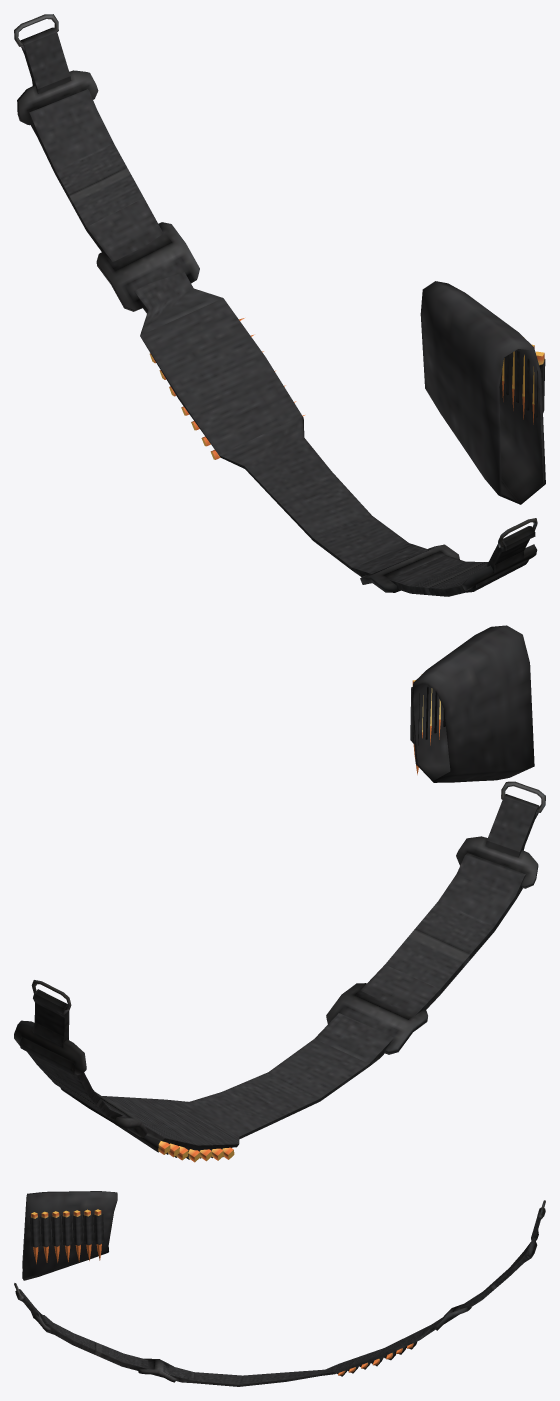
Rendered from Sling_Ammo.fbx.
3 renders of one model, top to bottom at view 1: azimuth 30°, elevation 25°; view 2: azimuth 150°, elevation 25°; view 3: azimuth 270°, elevation 25°, orthographic. The views are drawn at different scales.
Parts seen in each view (by area): view 1: Rifle_Sling_Ammo.001; view 2: Rifle_Sling_Ammo.001; view 3: Rifle_Sling_Ammo.001.
Boxes of the visible parts, bbox=[...] form: Rifle_Sling_Ammo.001: bbox=[14, 14, 545, 596]; Rifle_Sling_Ammo.001: bbox=[14, 625, 545, 1162]; Rifle_Sling_Ammo.001: bbox=[14, 1191, 545, 1386].
Size of the model in its own units: 0.058 by 0.4183 by 0.163.
